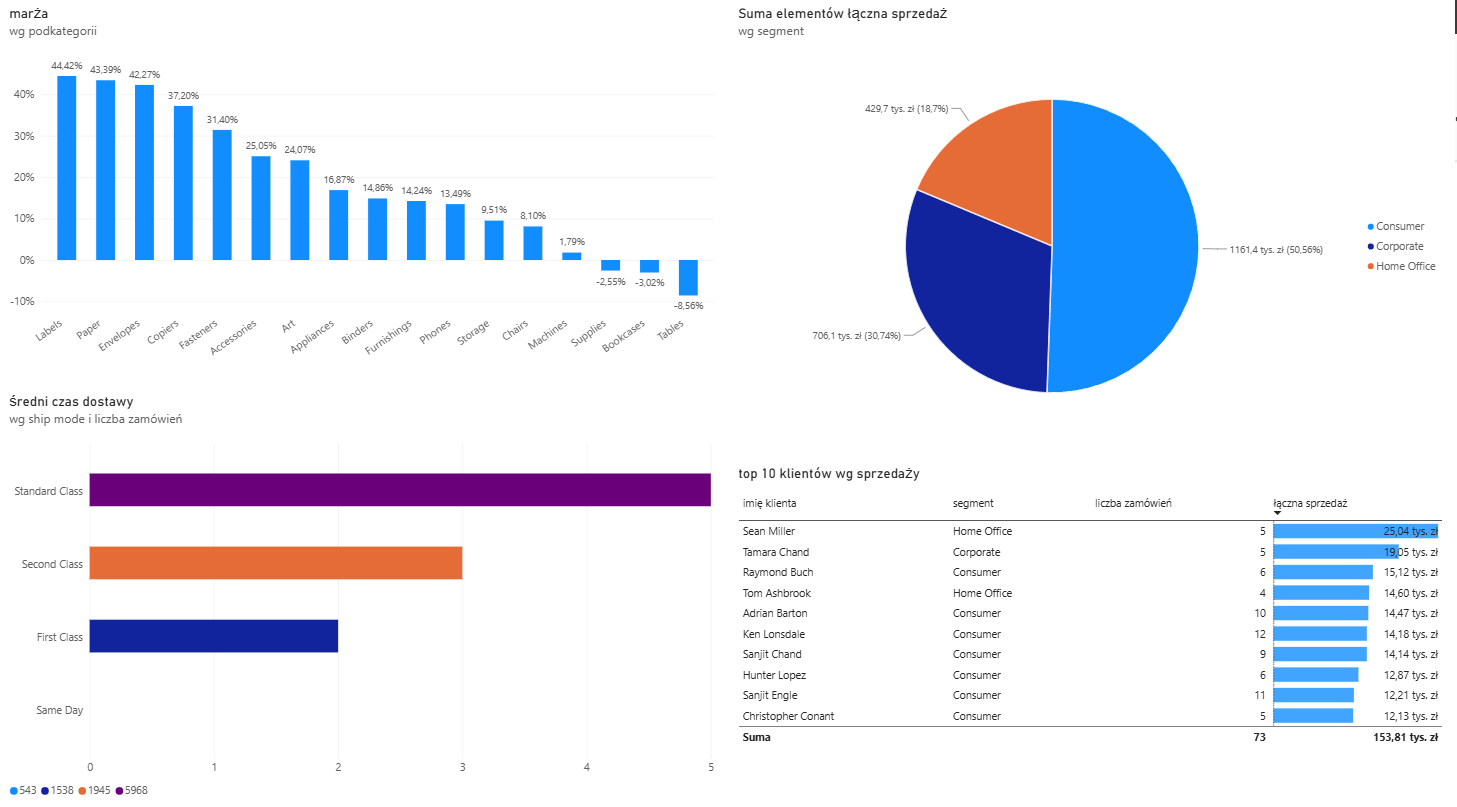

This screenshot's page, from the dashboard's own definition file:
{"tool":"powerbi","page":{"name":"pomocnicze dane","canvas":[1920,1080],"ordinal":1},"visuals":[{"type":"tableEx","title":"top 10 klientów wg sprzedaży","fields":{"Values":["bestcustomers.imię klienta","bestcustomers.segment","Sum(bestcustomers.liczba zamówień)","Sum(bestcustomers.łączna sprzedaż)"]},"box":[960.1,605.9,960.1,474.1],"z":0},{"type":"barChart","fields":{"Category":["dostawa.ship mode"],"Y":["Sum(dostawa.średni czas dostawy)"],"Series":["dostawa.liczba zamówień"]},"box":[0,511,960.1,569],"z":1000},{"type":"columnChart","title":" marża","fields":{"Category":["marza.podkategoria"],"Y":["Sum(marza.marża)"]},"box":[0,0,960.1,511],"z":2000},{"type":"pieChart","fields":{"Y":["Sum(segment.łączna sprzedaż)"],"Category":["segment.segment"]},"box":[960.1,0,960.1,605.9],"z":2001}]}

Visuals, with their boxes in screenshot pixels (x1, y1, x2, y2), scaled from the page's 1920x1080 canvas onto the 1457x807 screenshot:
"top 10 klientów wg sprzedaży" tableEx: BBox(729, 453, 1456, 806)
barChart - dostawa.ship mode x Sum(dostawa.średni czas dostawy): BBox(0, 382, 729, 806)
" marża" columnChart: BBox(0, 0, 729, 382)
pieChart - Sum(segment.łączna sprzedaż) x segment.segment: BBox(729, 0, 1456, 453)
